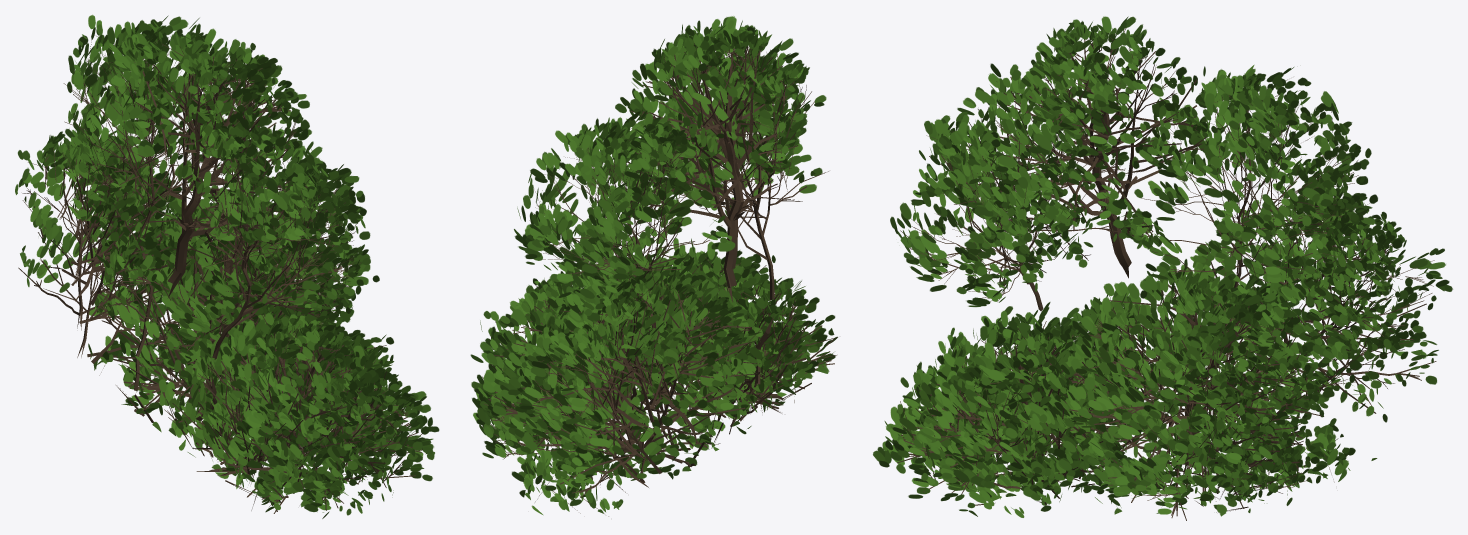
3 renders of one model, left to right at view 1: azimuth 30°, elevation 25°; view 2: azimuth 150°, elevation 25°; view 3: azimuth 270°, elevation 25°, orthographic. The views are drawn at different scales.
Visible parts, largest first — view 1: oak 01.001_trunk_Mat.001_0.354; view 2: oak 01.001_trunk_Mat.001_0.354; view 3: oak 01.001_trunk_Mat.001_0.354.
Boxes of the visible parts, bbox=[...] form: oak 01.001_trunk_Mat.001_0.354: bbox=[15, 14, 439, 518]; oak 01.001_trunk_Mat.001_0.354: bbox=[470, 16, 837, 516]; oak 01.001_trunk_Mat.001_0.354: bbox=[873, 16, 1452, 520].
Size of the model in its own units: 2.67 by 4.69 by 5.63.
Materials: 2 (1 with a texture image).
